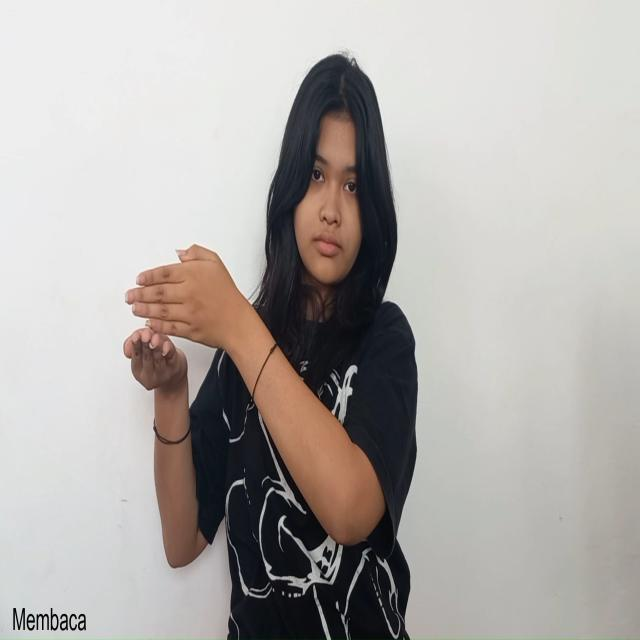Membaca -BISINDO-: (122, 245, 242, 391)
